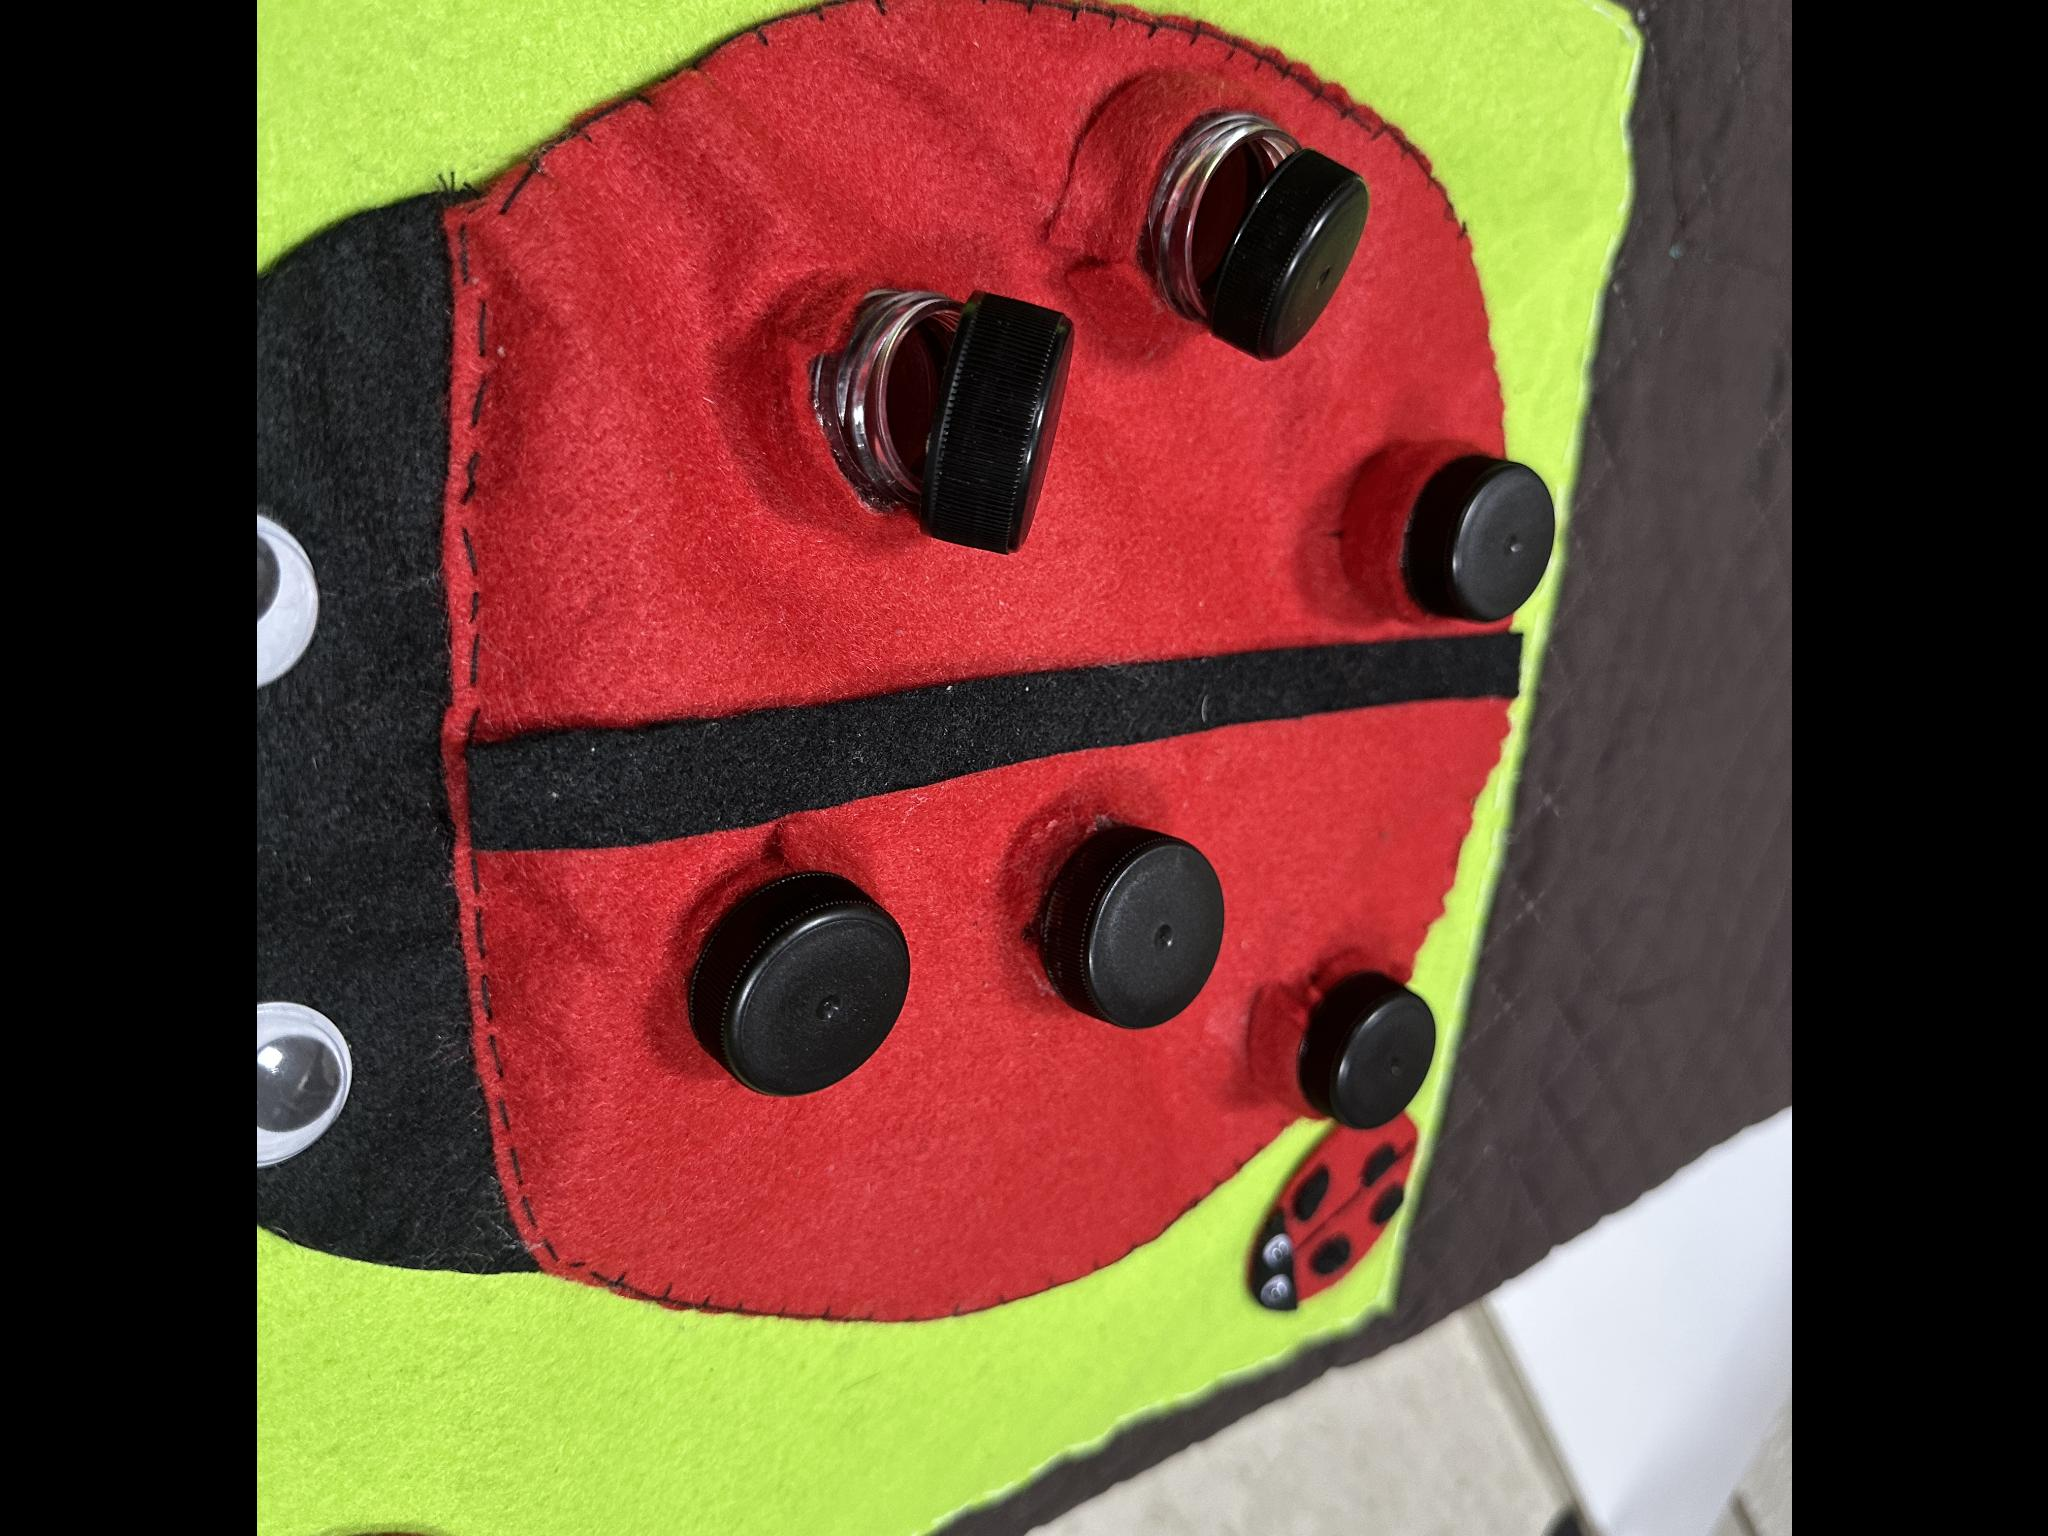cap_ng: (730, 252, 1080, 586), (1058, 48, 1398, 372)
cap_ok: (674, 842, 934, 1126), (1010, 785, 1242, 1043), (1345, 440, 1565, 650), (1241, 916, 1451, 1134)
